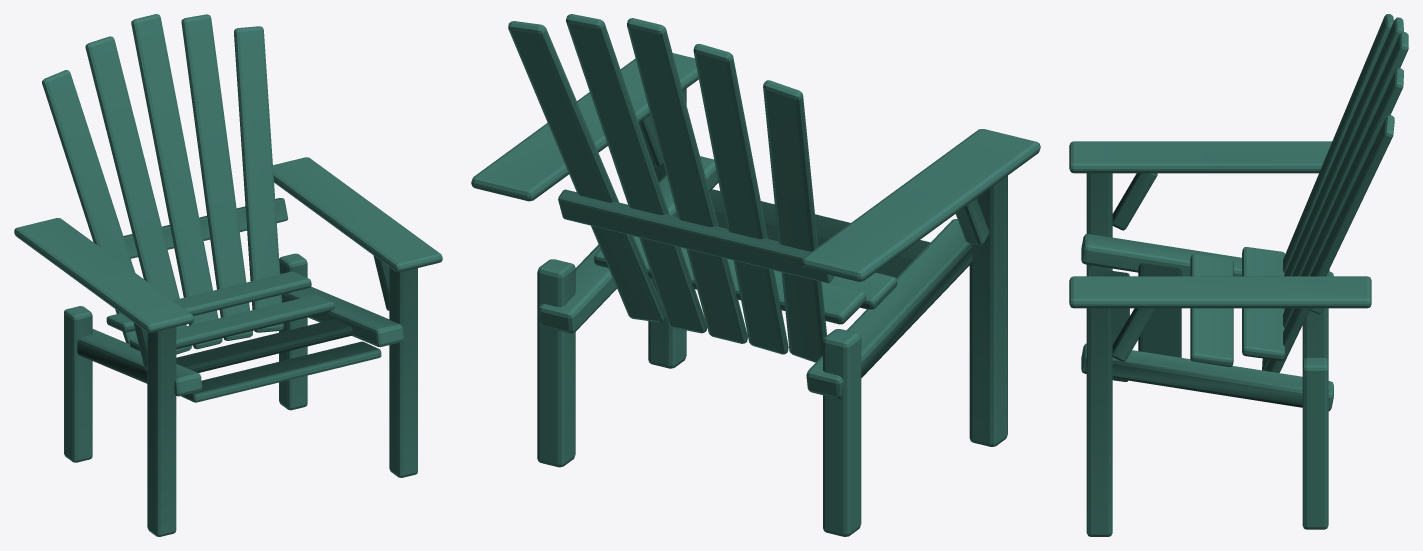
Rendered from adirondackChair.glb.
3 views of the same model, side by side, from view 1: azimuth 30°, elevation 25°; view 2: azimuth 150°, elevation 25°; view 3: azimuth 270°, elevation 25° (orthographic). The views are drawn at different scales.
Visible parts, largest first — view 1: adirondackChair; view 2: adirondackChair; view 3: adirondackChair.
Part boxes in pixels (left/top/right/bottom): adirondackChair: left=14, top=14, right=442, bottom=536; adirondackChair: left=471, top=14, right=1040, bottom=536; adirondackChair: left=1069, top=14, right=1408, bottom=536.
Size of the model in its own units: 0.88 by 1.1 by 0.7854.
